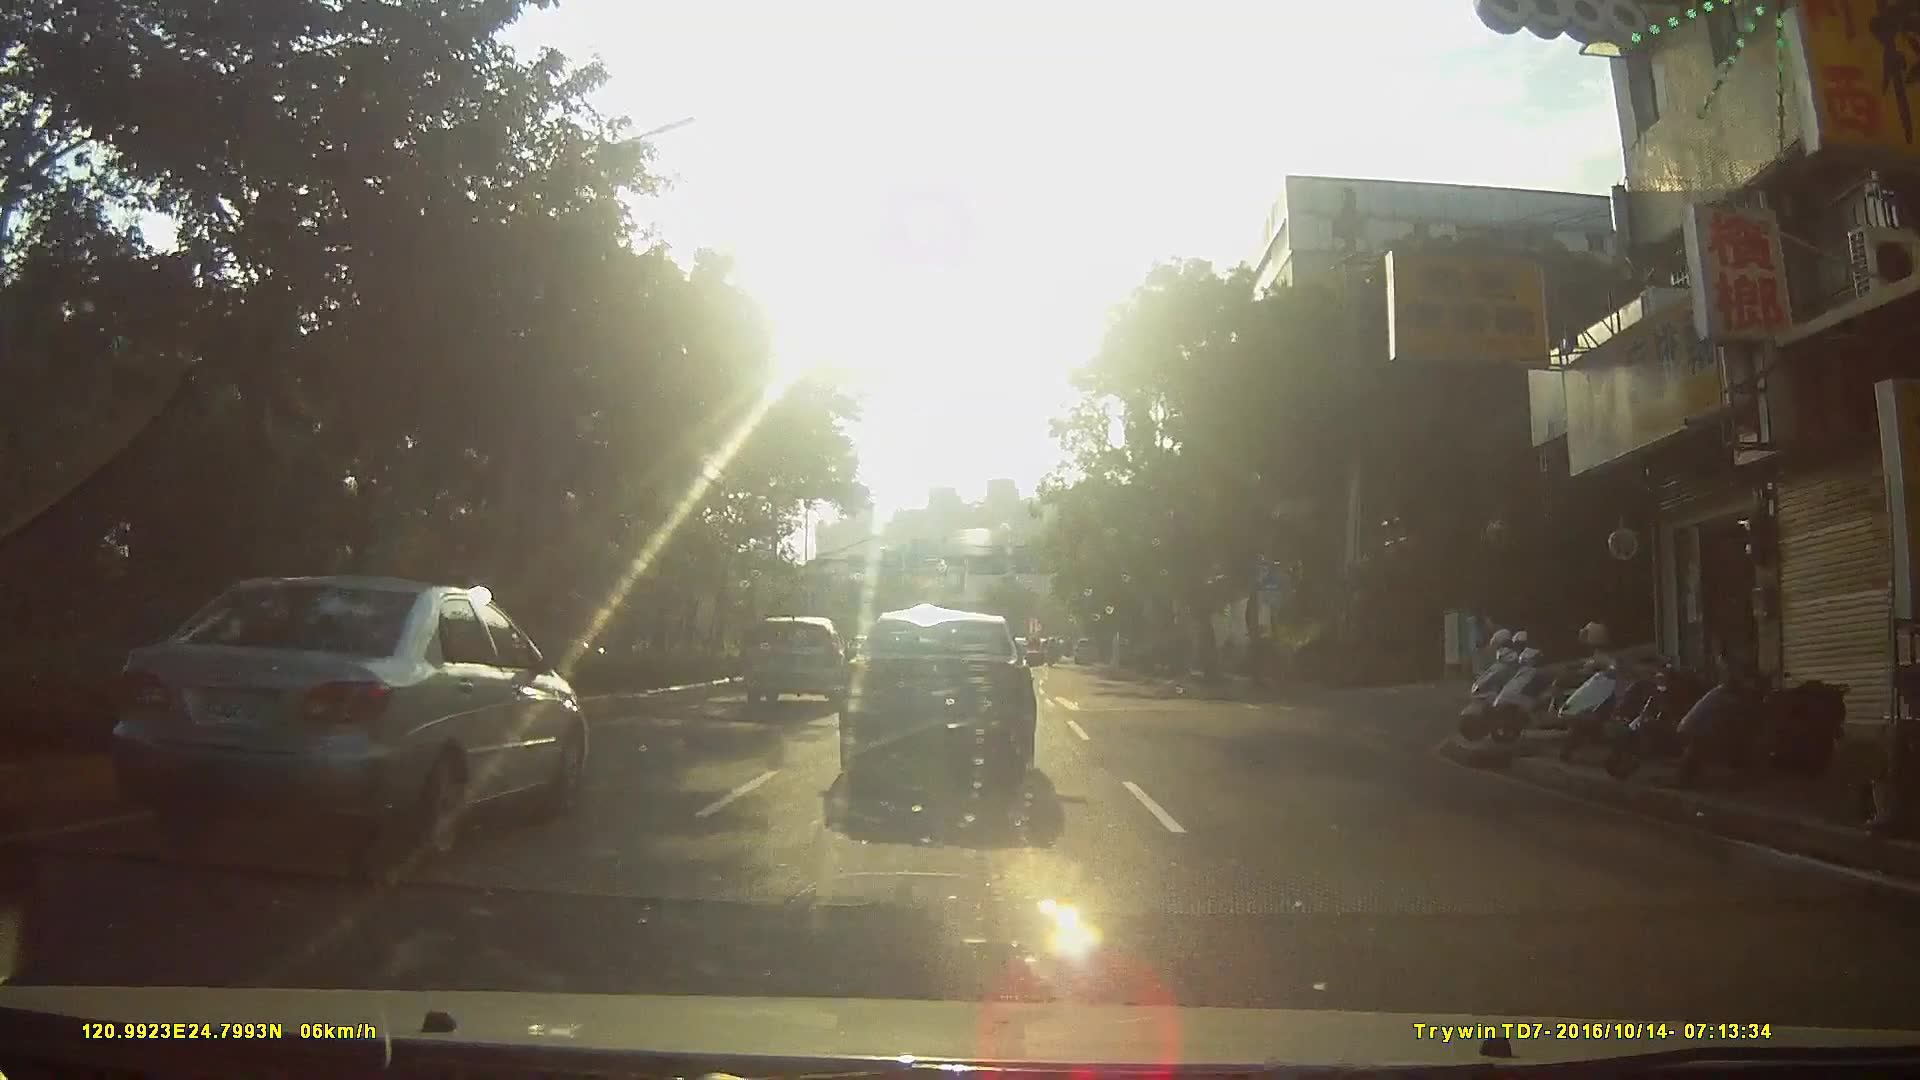vehicle: (57, 576, 592, 877), (843, 611, 1058, 796), (744, 615, 855, 705), (1072, 634, 1105, 665)
